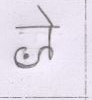o_matra: (42, 9, 57, 59)
